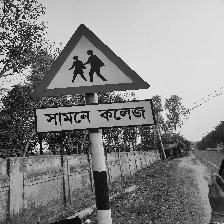College-in-front: (26, 23, 176, 153)
